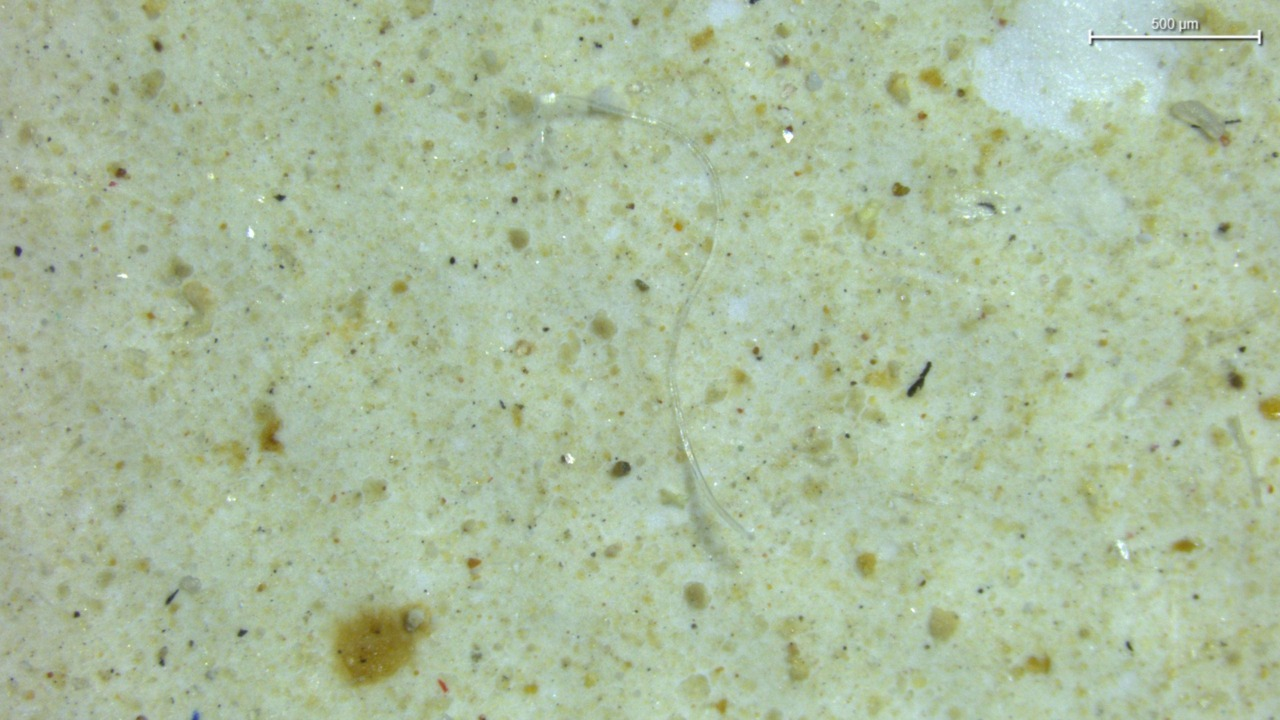microplastic_fragment: (1170, 100, 1225, 140)
